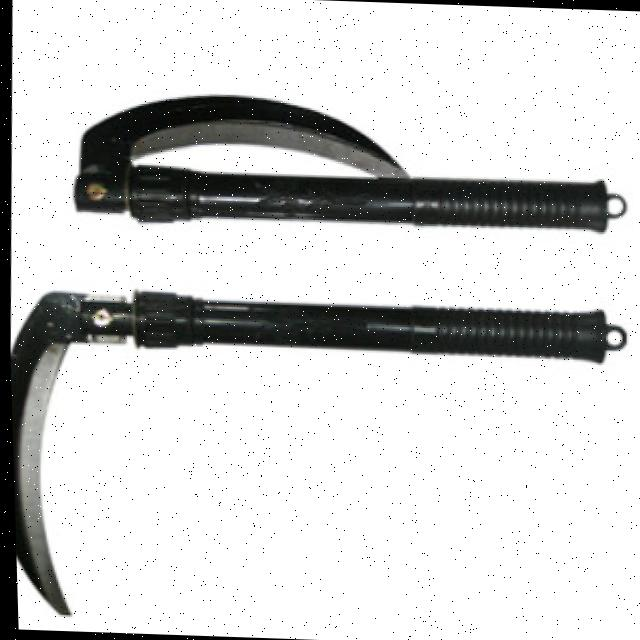sickle: (6, 256, 631, 640)
